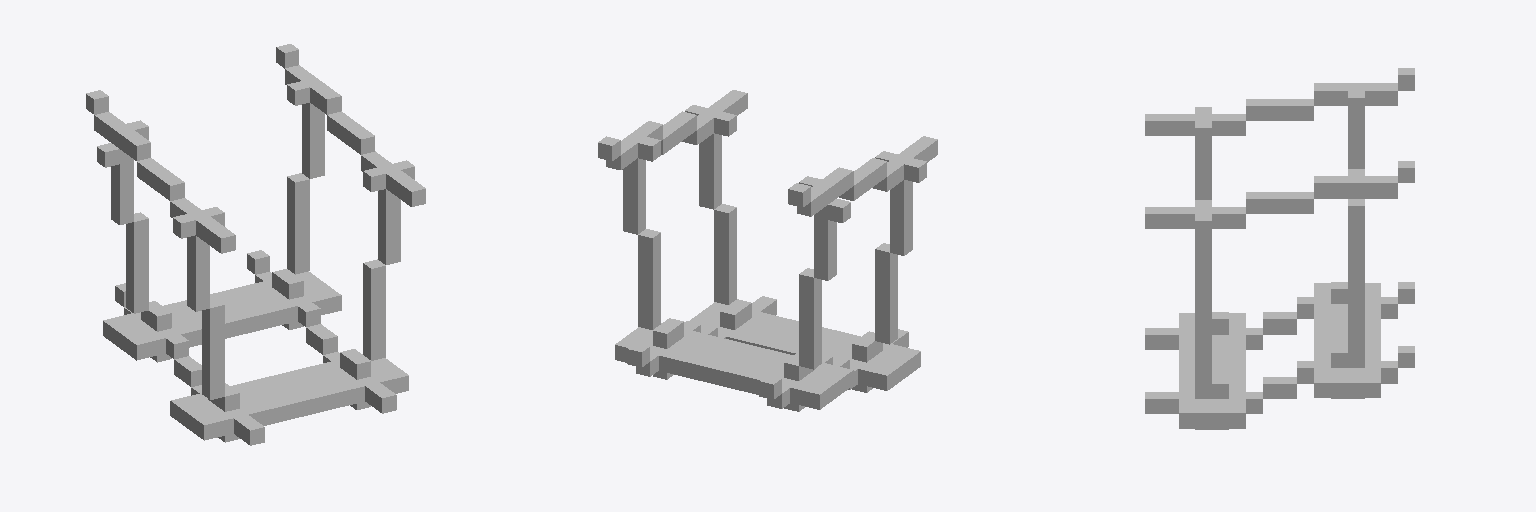
Rendered from rope_bridges_planks_flatup_l2.obj.
3 views of the same model, side by side, from view 1: azimuth 30°, elevation 25°; view 2: azimuth 150°, elevation 25°; view 3: azimuth 270°, elevation 25° (orthographic).
Parts seen in each view (by area): view 1: node_0_0_0; view 2: node_0_0_0; view 3: node_0_0_0.
Boxes of the visible parts, <box> form: node_0_0_0: <box>86,44,425,445</box>; node_0_0_0: <box>598,90,937,411</box>; node_0_0_0: <box>1145,68,1414,429</box>.
Bounding box in the file's own units: 1 × 1.12 × 1.